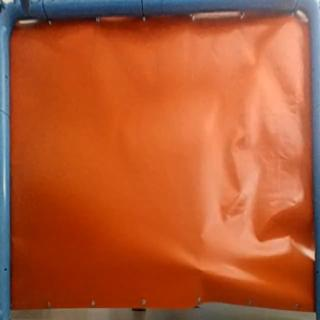Hit-hRxx: (189, 258, 209, 278)
